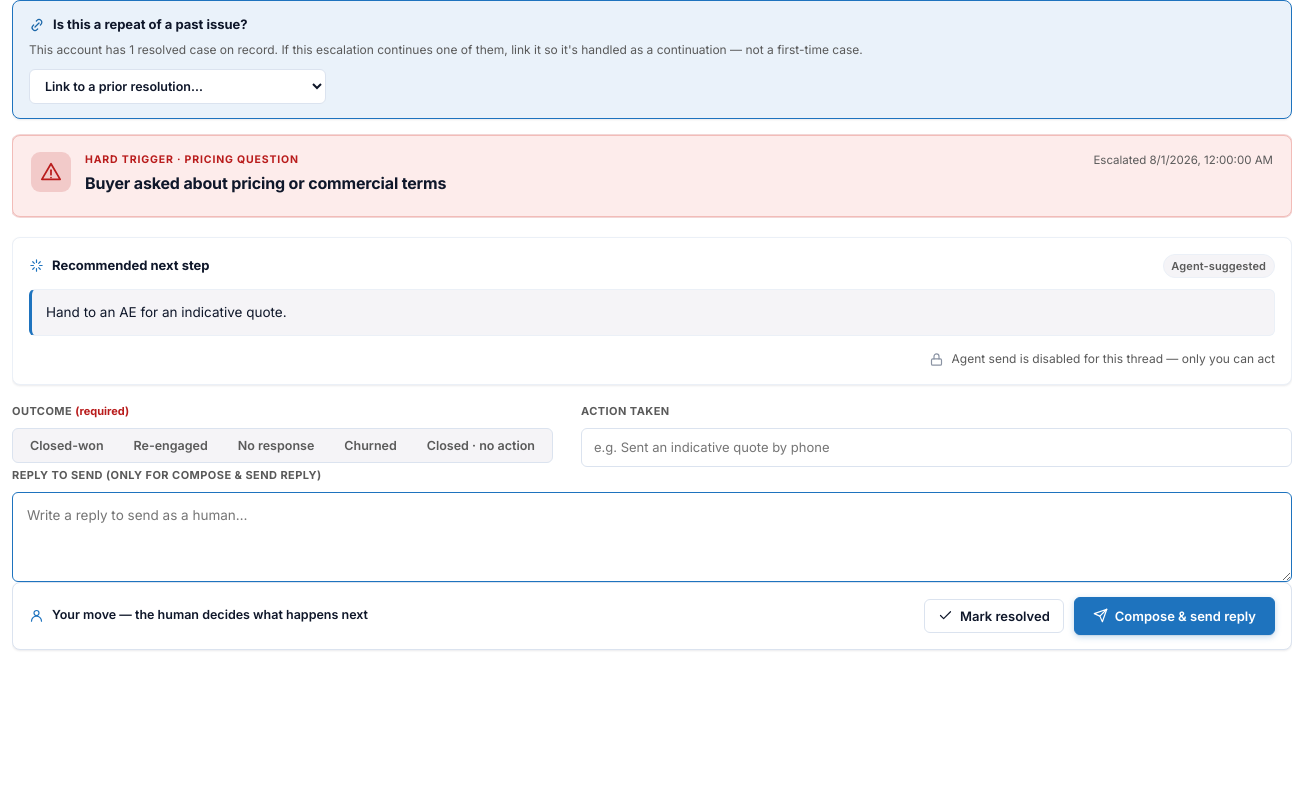
Test: EscalationPanel › requires an outcome before marking resolved
Click the button "Mark resolved" at (994, 616), box [924,599,1064,633]
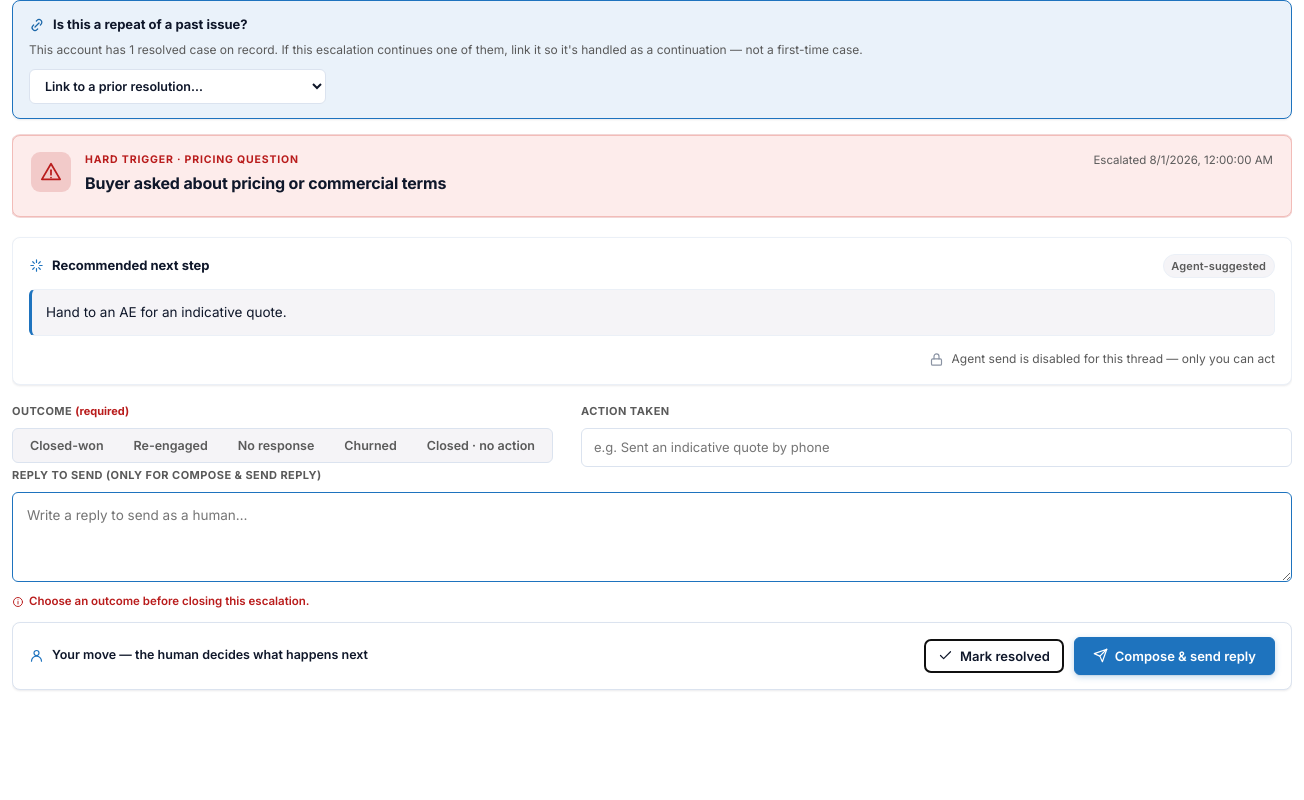
Expected: the text "Choose an outcome before closing this escalation." is shown, [12,593,309,610]
